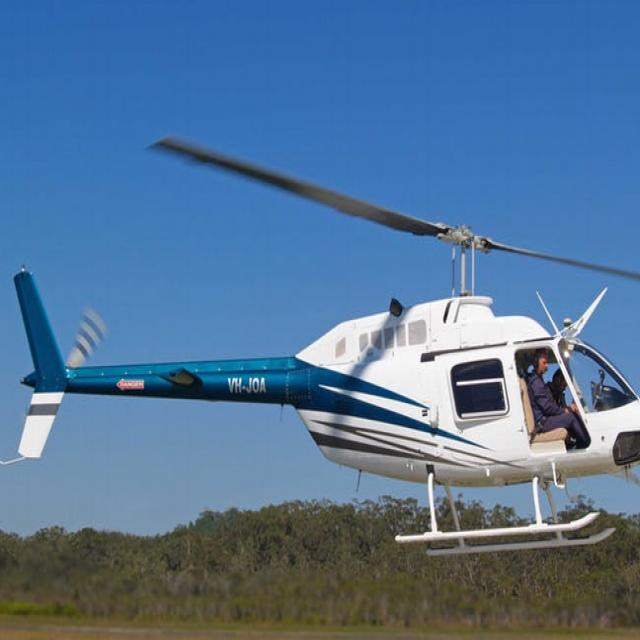helicopter: (1, 128, 640, 572)
